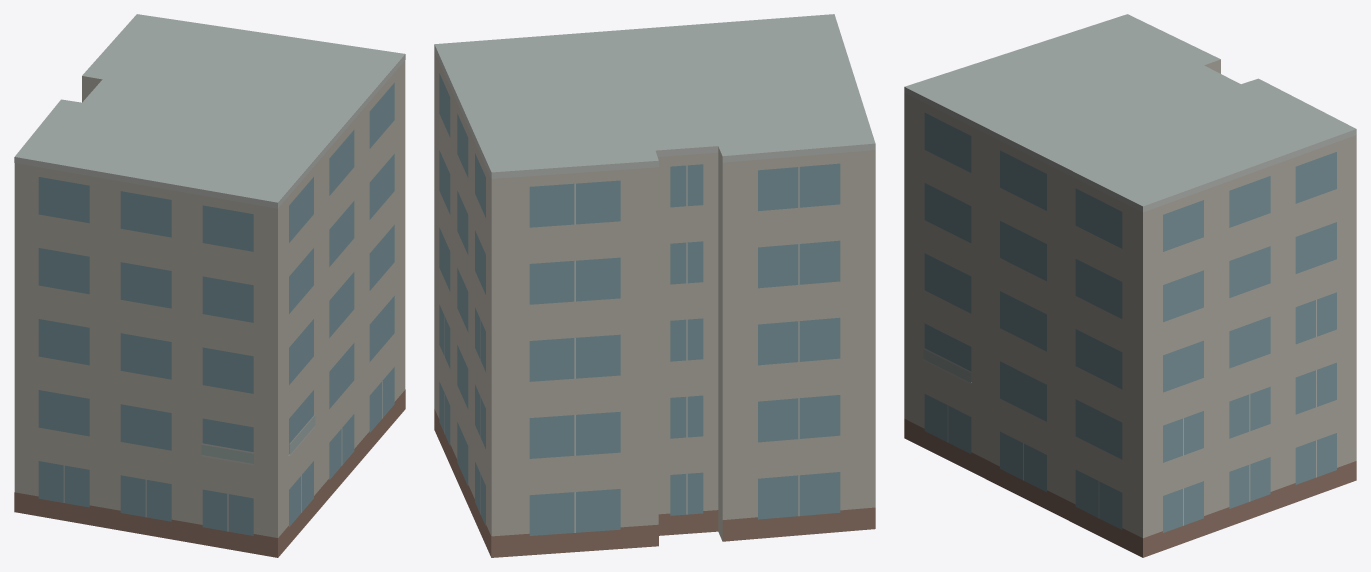
The model's file is survey-upis-32641361.glb.
The picture shows the model from 3 angles, left to right: view 1: azimuth 30°, elevation 25°; view 2: azimuth 150°, elevation 25°; view 3: azimuth 270°, elevation 25°; orthographic projection. The views are drawn at different scales.
Parts seen in each view (by area): view 1: survey-upis-32641361.tmp; view 2: survey-upis-32641361.tmp; view 3: survey-upis-32641361.tmp.
Boxes of the visible parts, <box> form: survey-upis-32641361.tmp: <box>14,14,405,557</box>; survey-upis-32641361.tmp: <box>434,14,875,557</box>; survey-upis-32641361.tmp: <box>904,14,1356,557</box>.
Bounding box in the file's own units: 16.93 × 14.4 × 16.8.
